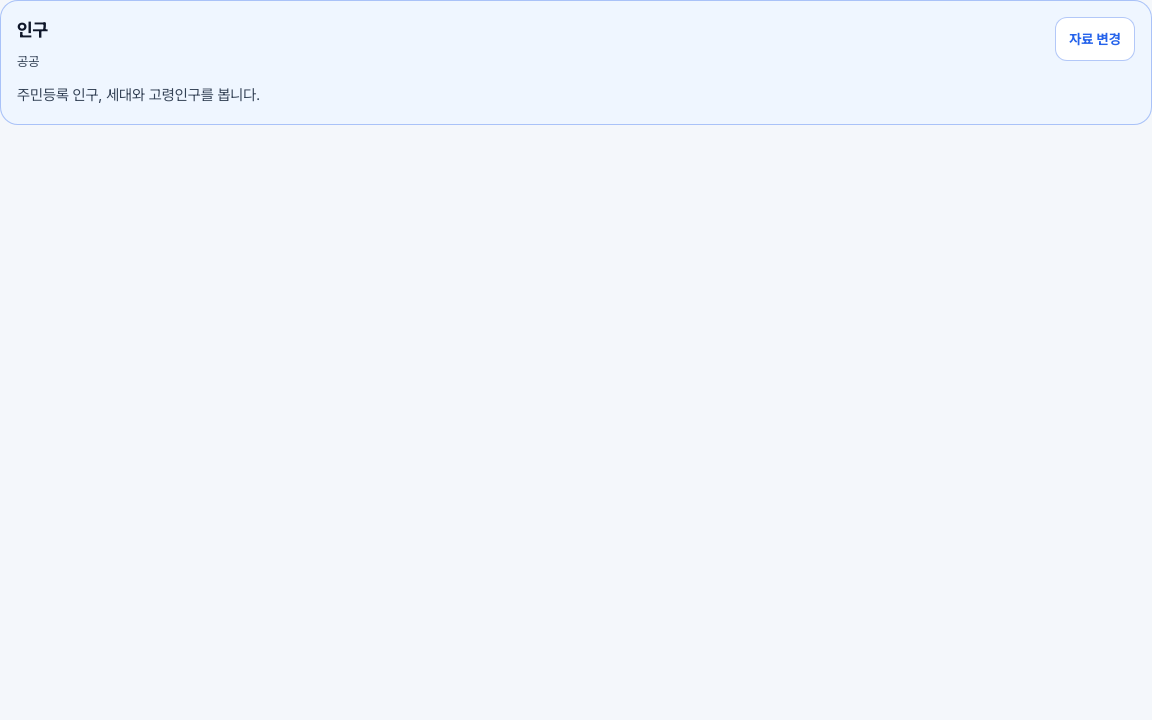
Test case: LayerSwitcher › 전체 자료에는 제공기관이 함께 표시된다
The image size is (1152, 720).
Click the button "자료 변경": point(1095, 39) x1=1055 y1=17 x2=1135 y2=61
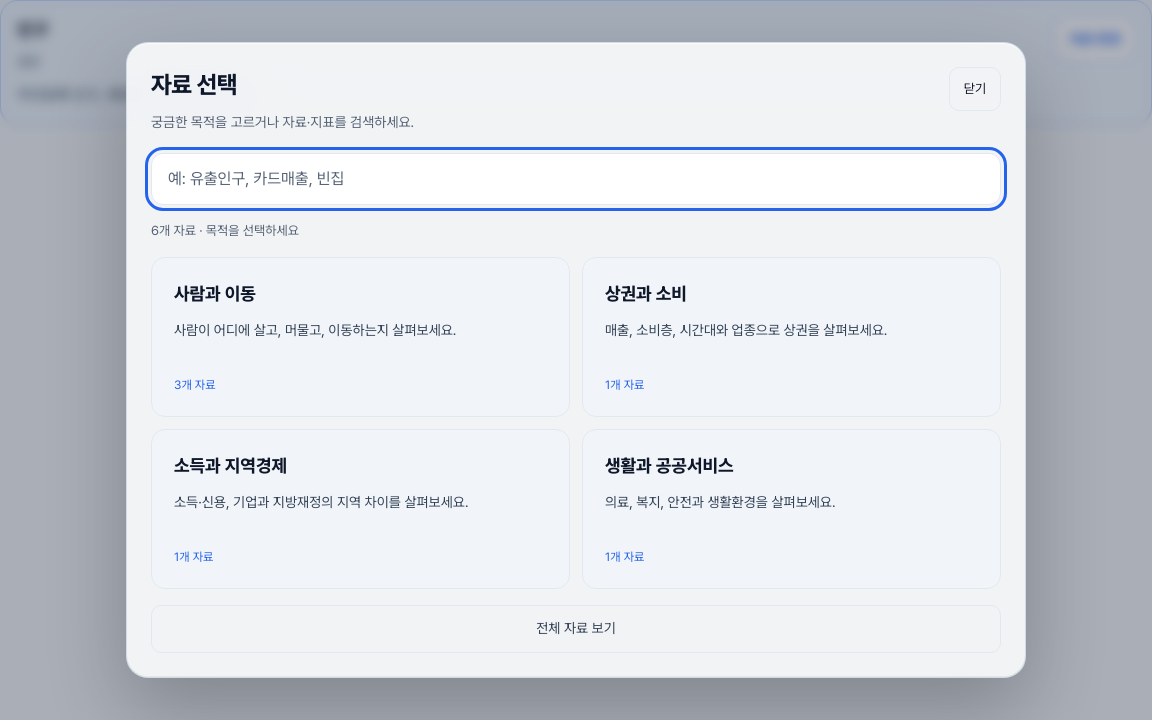
Click the button "전체 자료 보기": point(576, 629) x1=151 y1=605 x2=1001 y2=653
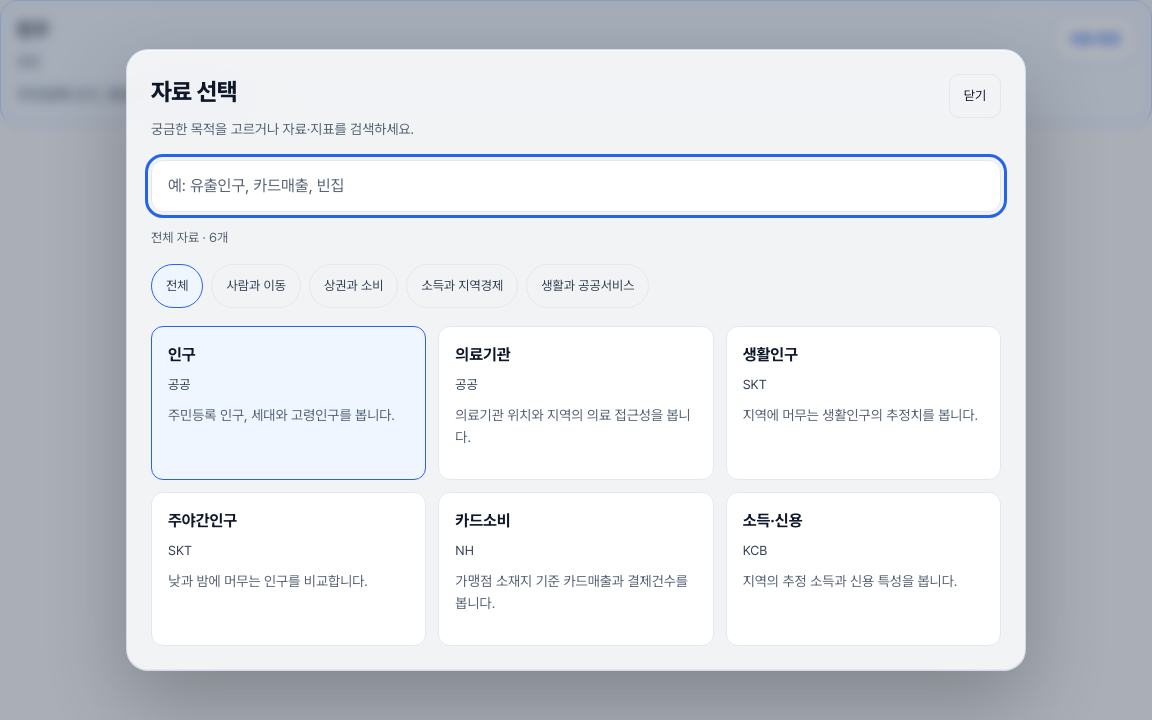
Expected: the button "인구 공공 주민등록 인구, 세대와 고령인구를 봅니다." is shown, x1=151 y1=326 x2=426 y2=480
Expected: the button "의료기관 공공 의료기관 위치와 지역의 의료 접근성을 봅니다." is shown, x1=438 y1=326 x2=714 y2=480
Expected: the button "카드소비 NH 가맹점 소재지 기준 카드매출과 결제건수를 봅니다." is shown, x1=438 y1=492 x2=714 y2=646
